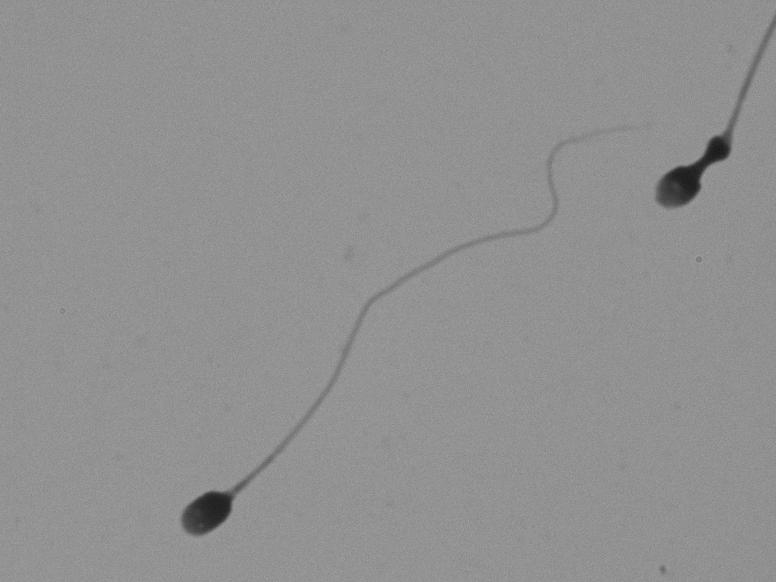Abnormal: (638, 38, 749, 283)
Normal: (157, 83, 624, 555)
